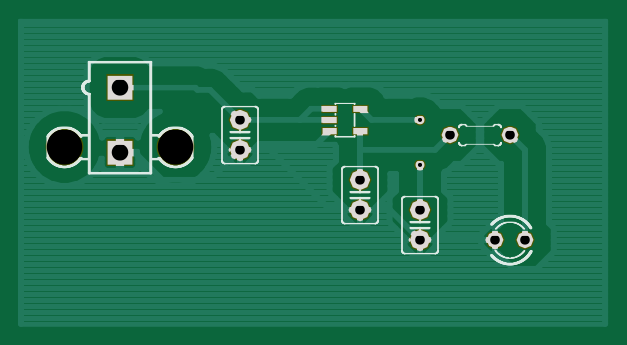LED: (486, 214, 534, 264)
capacitance: (340, 166, 379, 225), (221, 105, 258, 165), (401, 196, 438, 255)
power_supply: (46, 60, 194, 174)
regulation: (320, 102, 368, 140)
resistance: (442, 123, 520, 147)
